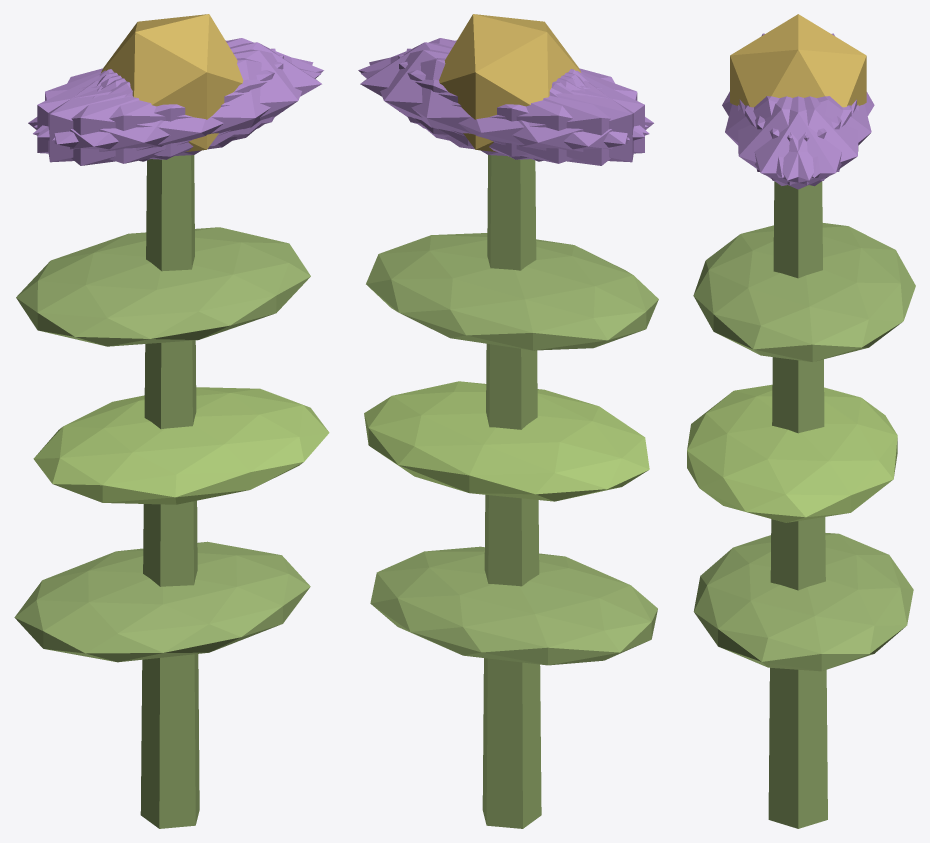
File: ficus-septica.glb
3 views of the same model, side by side, from view 1: azimuth 30°, elevation 25°; view 2: azimuth 150°, elevation 25°; view 3: azimuth 270°, elevation 25° (orthographic).
Visible parts, largest first — view 1: stem, leaf2, leaf1, leaf0, center, petal1, petal6, petal2, petal5, petal7, petal0, petal4 (+2 smaller); view 2: leaf2, stem, leaf0, leaf1, center, petal8, petal3, petal7, petal4, petal2, petal0, petal5 (+2 smaller); view 3: leaf2, leaf1, stem, leaf0, center, petal0, petal4, petal5, petal8, petal1.
Boxes of the visible parts, x1=… form: stem: x1=140, y1=155, x2=199, y2=828; leaf2: x1=16, y1=227, x2=310, y2=346; leaf1: x1=33, y1=387, x2=329, y2=504; leaf0: x1=14, y1=541, x2=310, y2=662; center: x1=101, y1=14, x2=243, y2=151; petal1: x1=33, y1=58, x2=321, y2=163; petal6: x1=28, y1=70, x2=237, y2=165; petal2: x1=48, y1=48, x2=275, y2=162; petal5: x1=52, y1=49, x2=313, y2=156; petal7: x1=37, y1=54, x2=283, y2=159; petal0: x1=100, y1=42, x2=321, y2=146; petal4: x1=34, y1=38, x2=323, y2=137; leaf2: x1=366, y1=233, x2=658, y2=350; stem: x1=482, y1=155, x2=541, y2=828; leaf0: x1=370, y1=546, x2=657, y2=665; leaf1: x1=364, y1=381, x2=649, y2=501; center: x1=439, y1=14, x2=581, y2=152; petal8: x1=361, y1=58, x2=649, y2=163; petal3: x1=445, y1=70, x2=653, y2=165; petal7: x1=406, y1=48, x2=633, y2=162; petal4: x1=369, y1=49, x2=629, y2=156; petal2: x1=398, y1=54, x2=644, y2=159; petal0: x1=360, y1=42, x2=581, y2=146; petal5: x1=358, y1=38, x2=647, y2=137; leaf2: x1=693, y1=223, x2=915, y2=361; leaf1: x1=687, y1=384, x2=897, y2=522; stem: x1=768, y1=181, x2=827, y2=828; leaf0: x1=693, y1=533, x2=913, y2=671; center: x1=730, y1=14, x2=866, y2=107; petal0: x1=739, y1=96, x2=856, y2=189; petal4: x1=745, y1=96, x2=858, y2=186; petal5: x1=738, y1=96, x2=851, y2=185; petal8: x1=755, y1=96, x2=871, y2=177; petal1: x1=725, y1=96, x2=841, y2=177.
Bounding box in the file's own units: 0.1452 × 0.3875 × 0.1026.
